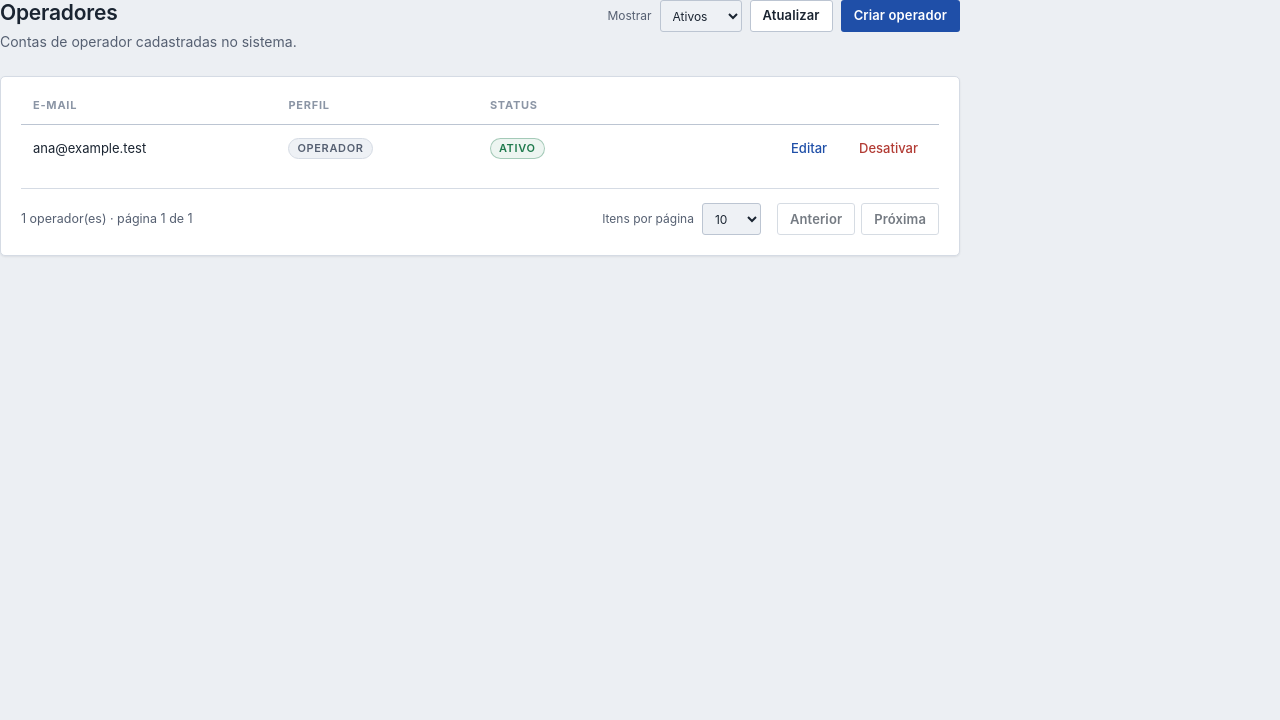
Test: OperatorsListPage: ativar e desativar › mantém a janela aberta com message e notifications e não recarrega quando a api recusa
Click the button "Desativar": (889, 149) [850, 136, 927, 161]
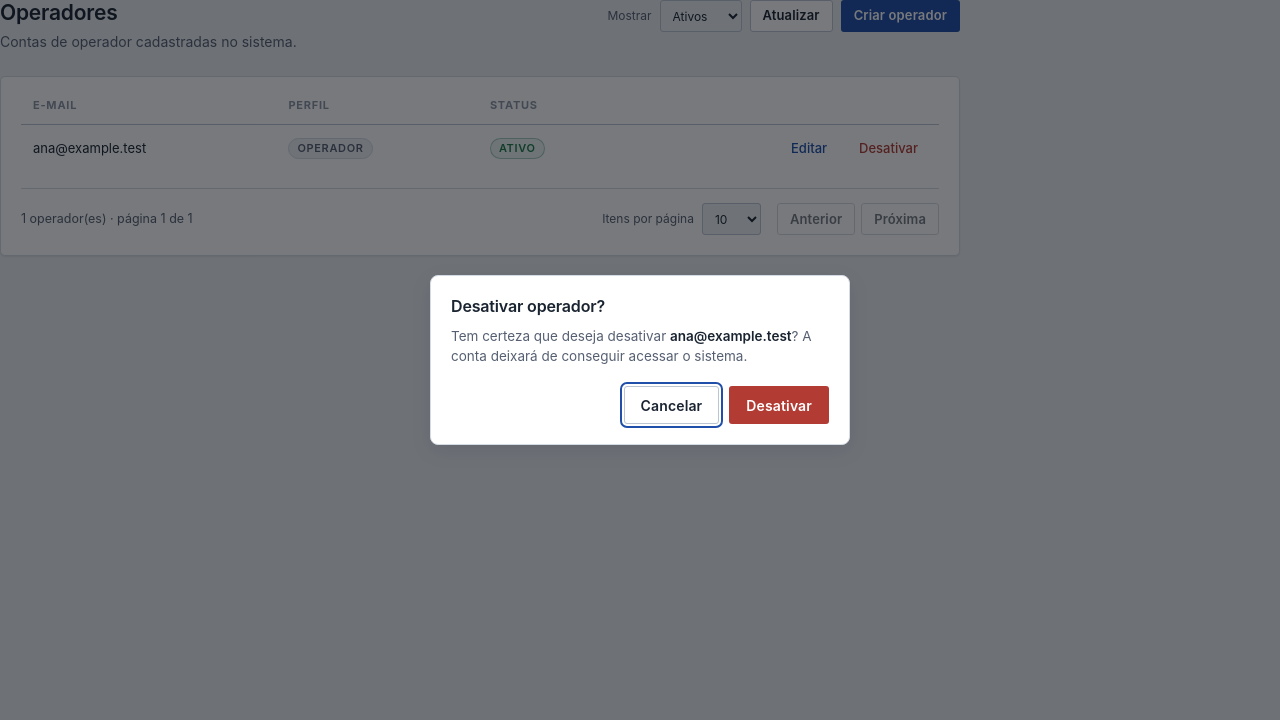
Click the button "Desativar": (779, 405) [729, 386, 829, 424]
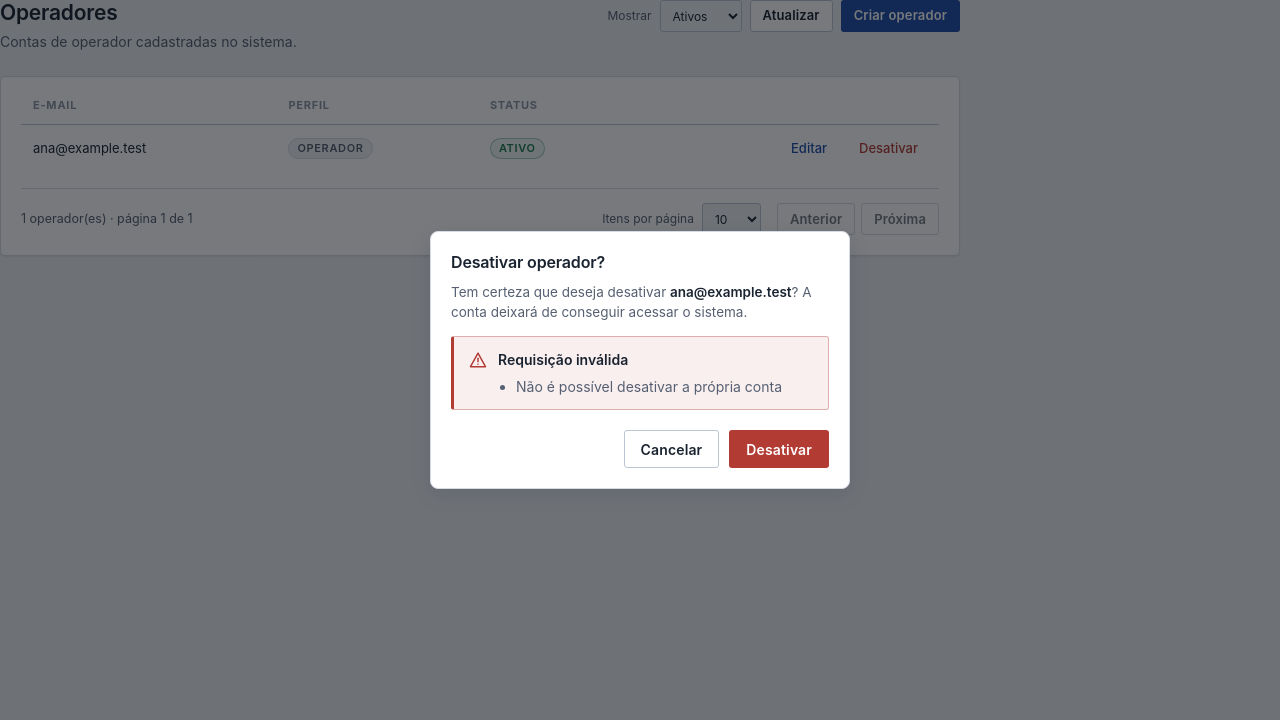
Expected: the dialog is shown, [430, 231, 850, 489]
Expected: the message shows "Requisição inválida", [498, 351, 628, 368]
Expected: the message shows "Não é possível desativar a própria conta", [516, 378, 782, 395]
